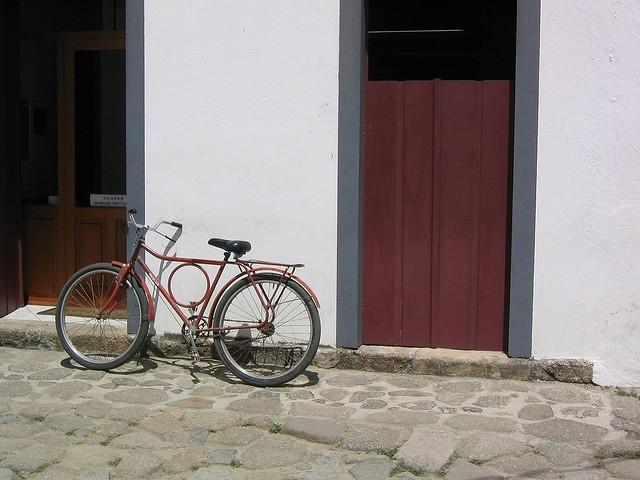bicycle: (54, 209, 320, 388)
